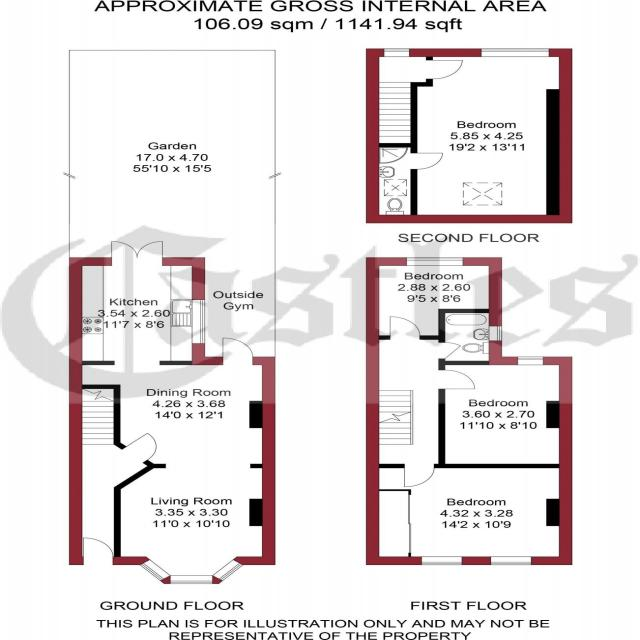DOOR: (118, 431, 159, 465), (221, 336, 256, 366), (82, 536, 114, 566), (424, 58, 465, 81), (387, 315, 423, 340), (437, 369, 477, 391), (402, 463, 437, 488), (409, 152, 446, 171)
DOUBLE DOOR: (102, 236, 174, 267)
ROOM: (66, 239, 274, 584), (410, 48, 573, 224), (365, 463, 574, 566), (437, 356, 574, 469), (365, 257, 503, 340)
WINDOW: (210, 558, 246, 582), (137, 558, 172, 582), (189, 299, 206, 345), (479, 48, 551, 58), (405, 257, 465, 267), (169, 574, 214, 585), (420, 556, 465, 566), (489, 556, 533, 566), (515, 356, 545, 366), (382, 48, 411, 58), (487, 325, 504, 342)
